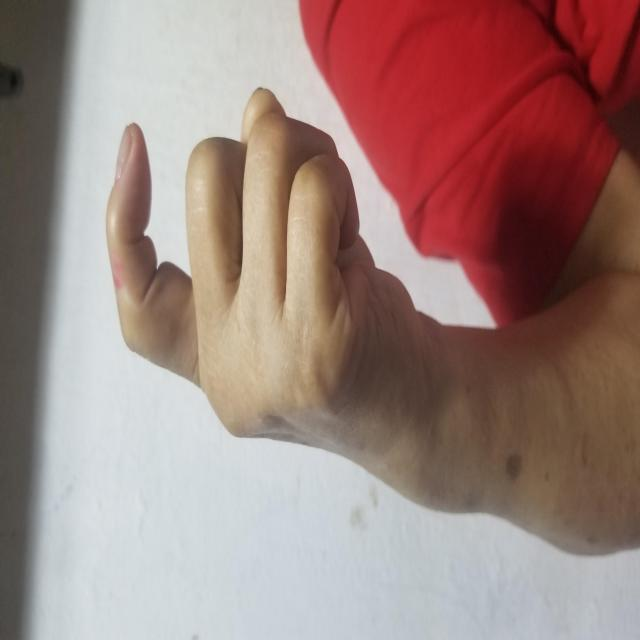X: (197, 104, 557, 361)
